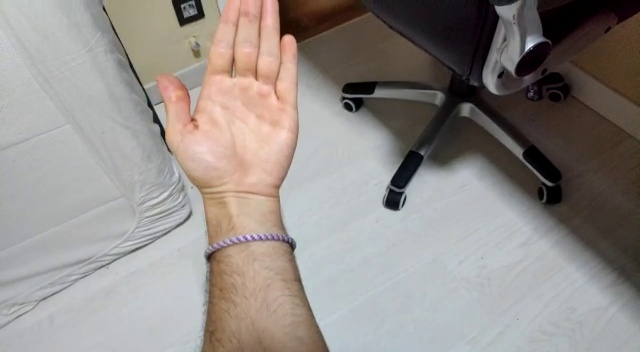Palm: (155, 1, 306, 219)
